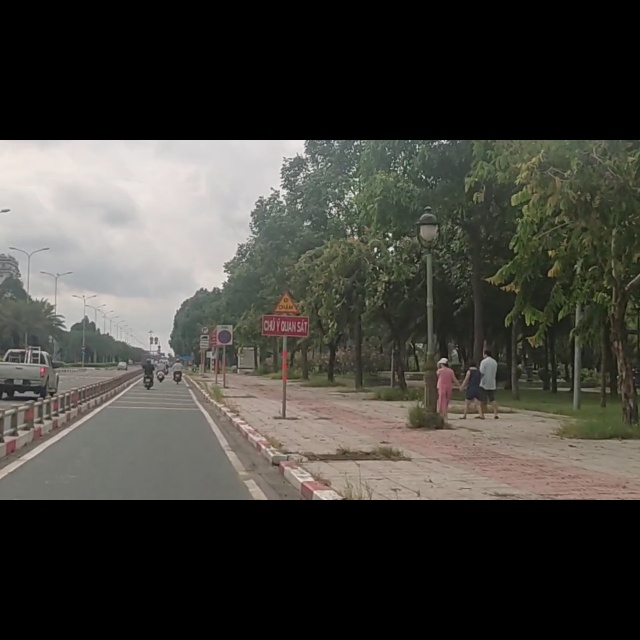bien_cam: (272, 267, 301, 312), (215, 328, 235, 365), (199, 344, 211, 372), (201, 331, 209, 344)
